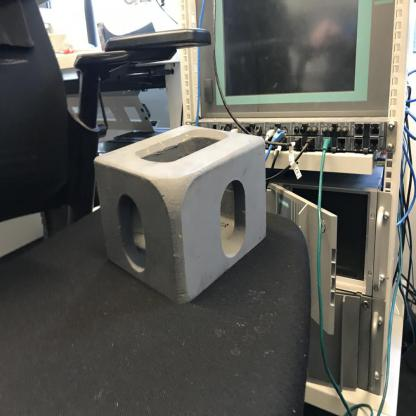CornerCasting: (90, 122, 268, 303)
